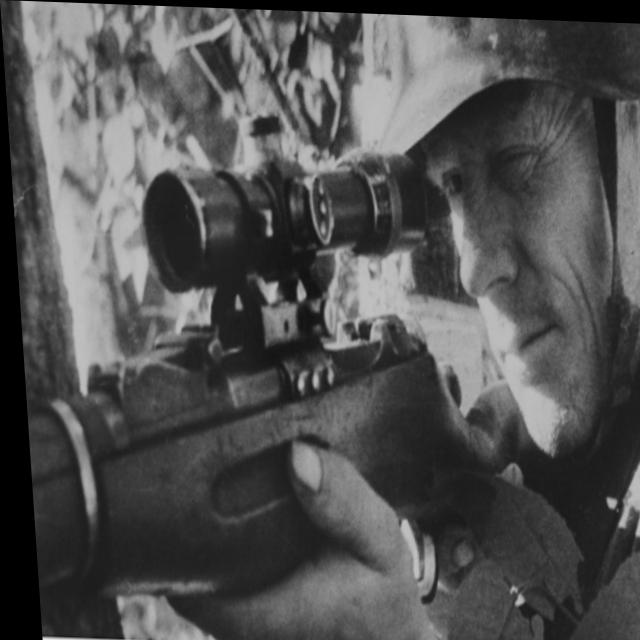other: (312, 9, 640, 507)
